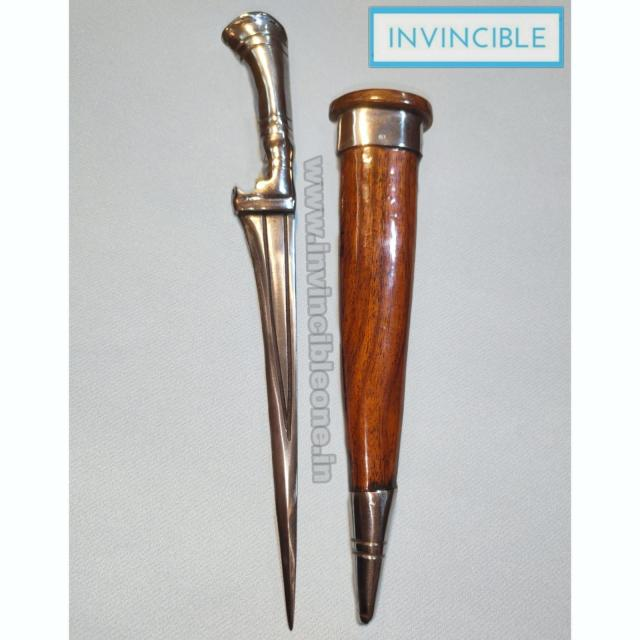Gun: (191, 1, 336, 640)
